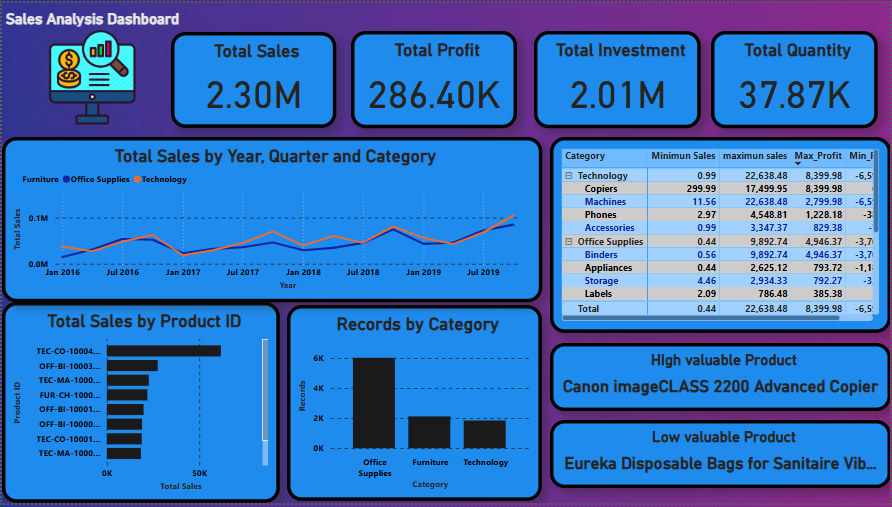

This screenshot's page, from the dashboard's own definition file:
{"tool":"powerbi","page":{"name":"Page 2","canvas":[1280,720],"ordinal":0},"visuals":[{"type":"card","title":"Total Sales","fields":{"Values":["Measures (2).Total Sales"]},"box":[243.4,41.8,237.6,138.2],"z":0},{"type":"card","title":"Total Profit","fields":{"Values":["Measures (2).Total Profit"]},"box":[502.6,40.3,239,139.7],"z":1000},{"type":"card","title":"Total Investment","fields":{"Values":["Measures (2).Total investment"]},"box":[766.1,40.3,240.5,139.7],"z":2000},{"type":"barChart","fields":{"Category":["Sales.Product ID"],"Y":["Measures (2).Total Sales"]},"box":[0,430.6,400.3,289.4],"z":3000},{"type":"clusteredColumnChart","fields":{"Category":["Sales.Category"],"Y":["Measures (2).Records"]},"box":[410.4,434.9,367.2,282.2],"z":4000},{"type":"lineChart","fields":{"Y":["Measures (2).Total Sales"],"Category":["Sales.Order Date.Variation.Date Hierarchy.Year","Sales.Order Date.Variation.Date Hierarchy.Quarter"],"Series":["Sales.Category"]},"box":[0,193,777.6,237.6],"z":5000},{"type":"pivotTable","fields":{"Values":["Measures (2).Minimun Sales","Measures (2).maximun sales","Measures (2).Max_Profit","Measures (2).Min_Profit"],"Rows":["Sales.Category Hierarchy.Category","Sales.Category Hierarchy.Sub-Category"]},"box":[789.1,193,491,282.2],"z":6000},{"type":"card","title":"Total Quantity","fields":{"Values":["Measures (2).Total Quantity"]},"box":[1021,40.3,240.5,139.7],"z":7000},{"type":"card","title":"HIgh valuable Product","fields":{"Values":["Min(Sales.Product Name)"]},"box":[789.1,489.6,491,97.9],"z":8000},{"type":"card","title":"Low valuable Product","fields":{"Values":["Min(Sales.Product Name)"]},"box":[789.1,600.5,491,97.9],"z":9000},{"type":"image","title":"Sales Analysis Dashboard","box":[0,10.1,260.6,169.9],"z":10000}]}

Visuals, with their boxes in screenshot pixels (x1, y1, x2, y2), scaled from the page's 1280x720 canvas onto the 892x507 screenshot:
"Total Sales" card: locate(170, 29, 335, 127)
"Total Profit" card: locate(350, 28, 517, 127)
"Total Investment" card: locate(534, 28, 701, 127)
barChart - Sales.Product ID x Measures (2).Total Sales: locate(0, 303, 279, 506)
clusteredColumnChart - Sales.Category x Measures (2).Records: locate(286, 306, 542, 505)
lineChart - Measures (2).Total Sales x Sales.Order Date.Variation.Date Hierarchy.Year: locate(0, 136, 542, 303)
pivotTable - Measures (2).Minimun Sales x Measures (2).maximun sales: locate(550, 136, 891, 335)
"Total Quantity" card: locate(712, 28, 879, 127)
"HIgh valuable Product" card: locate(550, 345, 891, 414)
"Low valuable Product" card: locate(550, 423, 891, 492)
"Sales Analysis Dashboard" image: locate(0, 7, 182, 127)
